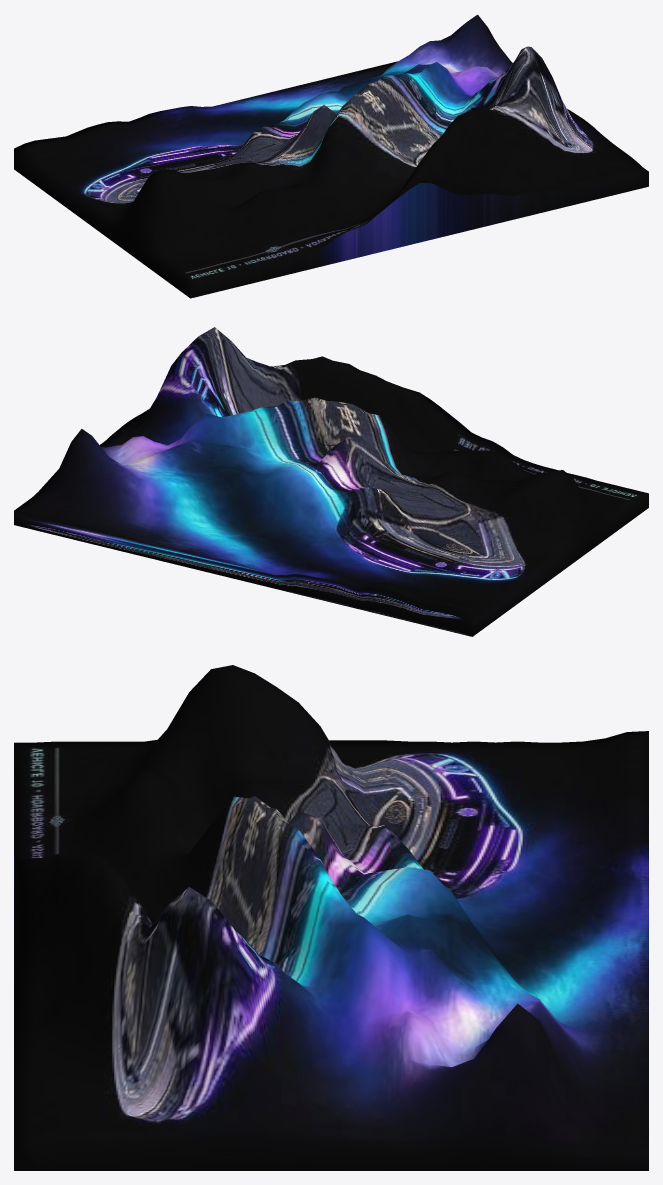
The model's file is VEHICLE_10_Hoverboard.glb.
3 renders of one model, top to bottom at view 1: azimuth 30°, elevation 25°; view 2: azimuth 150°, elevation 25°; view 3: azimuth 270°, elevation 25°, orthographic. The views are drawn at different scales.
Parts seen in each view (by area): view 1: VEHICLE_10_Hoverboard; view 2: VEHICLE_10_Hoverboard; view 3: VEHICLE_10_Hoverboard.
Part boxes in pixels (<box>): VEHICLE_10_Hoverboard: <box>14,14,648,298</box>; VEHICLE_10_Hoverboard: <box>14,327,648,636</box>; VEHICLE_10_Hoverboard: <box>14,665,648,1170</box>.
Bounding box in the file's own units: 2 × 0.51 × 1.33.
Materials: 1 (1 with a texture image).
